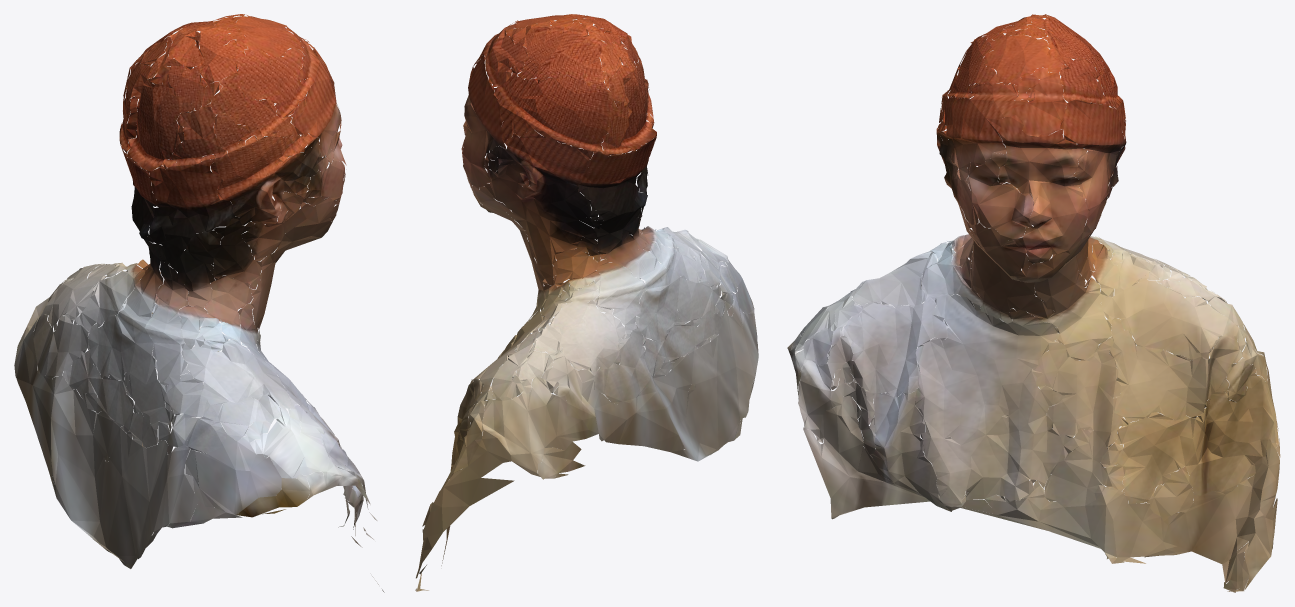
The model's file is metaMe.glb.
3 views of the same model, side by side, from view 1: azimuth 30°, elevation 25°; view 2: azimuth 150°, elevation 25°; view 3: azimuth 270°, elevation 25° (orthographic). The views are drawn at different scales.
Parts seen in each view (by area): view 1: mesh.004; view 2: mesh.004; view 3: mesh.004.
Boxes of the visible parts, left/top/right/bottom form: mesh.004: left=14, top=14, right=384, bottom=592; mesh.004: left=415, top=14, right=758, bottom=591; mesh.004: left=787, top=14, right=1280, bottom=592.
Size of the model in its own units: 0.3005 by 0.6249 by 0.5173.
1 material, 1 textured.
